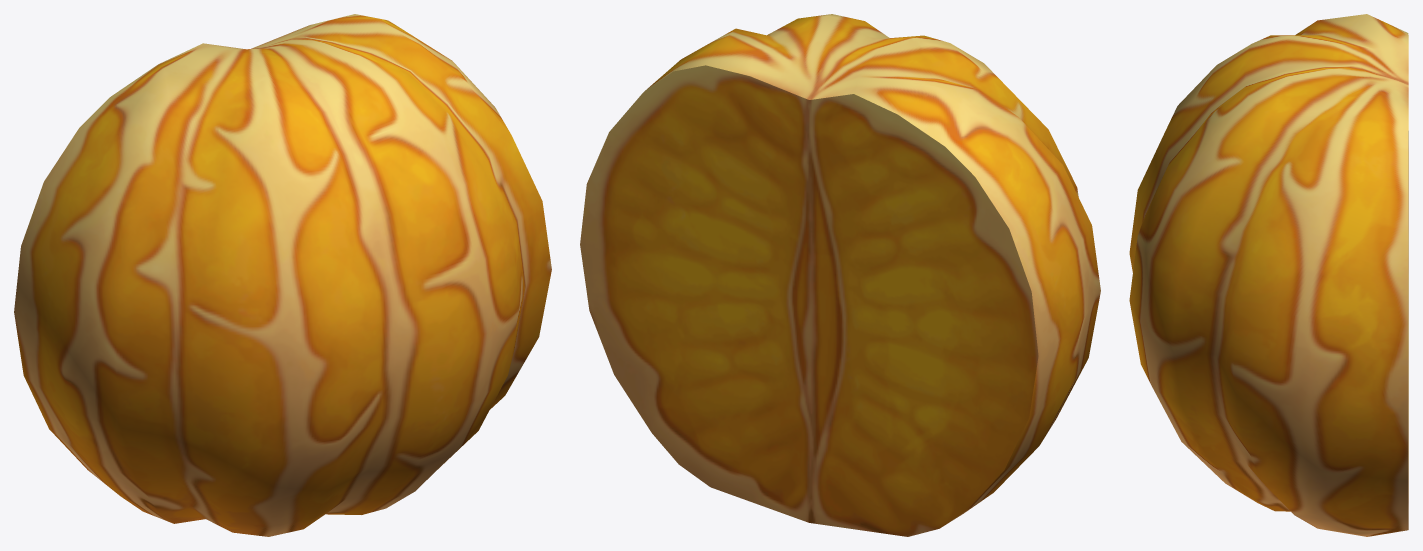
File: SM_TangerinePeeledHalf.fbx
3 renders of one model, left to right at view 1: azimuth 30°, elevation 25°; view 2: azimuth 150°, elevation 25°; view 3: azimuth 270°, elevation 25°, orthographic. The views are drawn at different scales.
Visible parts, largest first — view 1: SM_TangerinePeeledHalf; view 2: SM_TangerinePeeledHalf; view 3: SM_TangerinePeeledHalf.
Boxes of the visible parts, x1=… form: SM_TangerinePeeledHalf: x1=14, y1=14, x2=551, y2=536; SM_TangerinePeeledHalf: x1=580, y1=14, x2=1100, y2=536; SM_TangerinePeeledHalf: x1=1129, y1=14, x2=1408, y2=536.
Bounding box in the file's own units: 9.01 × 8.49 × 4.9.
